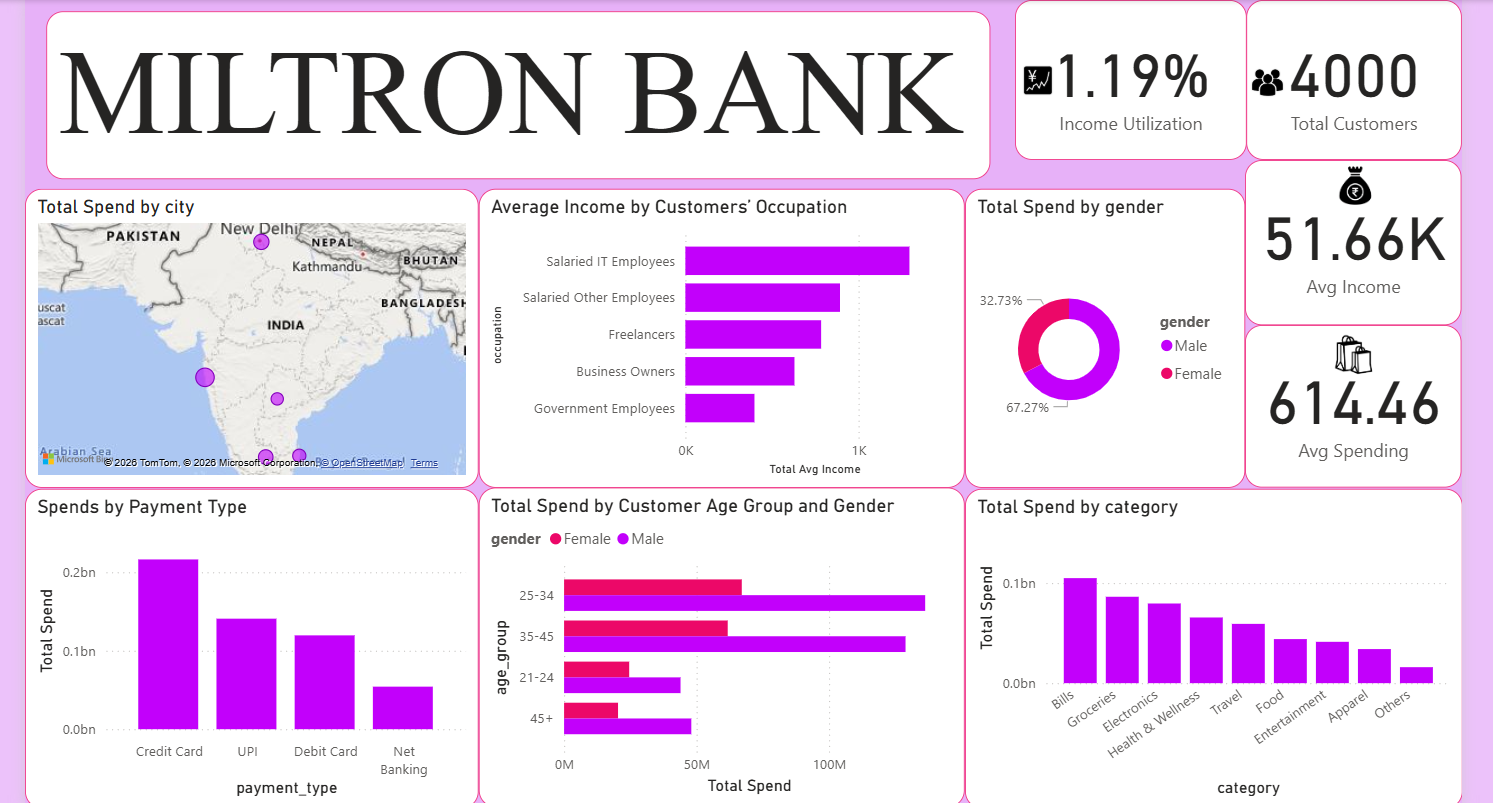

The page's visual inventory and layout, read from the dashboard file:
{"tool":"powerbi","page":{"name":"MILTRON BANK","canvas":[1280,720],"ordinal":0},"visuals":[{"type":"card","fields":{"Values":["CountNonNull(dim_customers.customer_id)"]},"box":[1088.2,0,191.8,142.4],"z":0,"group":"g2"},{"type":"card","fields":{"Values":["Avg(dim_customers.avg_income)"]},"box":[1087,142.4,193,147.2],"z":0},{"type":"card","fields":{"Values":["Avg(fact_spends.spend)"]},"box":[1087,289.5,193,144.8],"z":1000},{"type":"columnChart","title":"Spends by Payment Type","fields":{"Y":["Sum(fact_spends.spend)"],"Category":["fact_spends.payment_type"]},"box":[0,434.7,404.2,284.7],"z":2000},{"type":"card","fields":{"Values":["dim_customers.Income Utilization"]},"box":[881.9,0,206.3,142.4],"z":3000,"group":"g1"},{"type":"barChart","title":"Average Income by Customers’ Occupation","fields":{"Category":["dim_customers.occupation"],"Y":["CountNonNull(dim_customers.avg_income)"]},"box":[404.2,167.7,433.1,266.6],"z":3000},{"type":"map","fields":{"Category":["dim_customers.city"],"Size":["Sum(fact_spends.spend)"]},"box":[0,167.7,404.2,266.6],"z":4000},{"type":"donutChart","fields":{"Category":["dim_customers.gender"],"Y":["Sum(fact_spends.spend)"]},"box":[837.3,167.7,249.7,266.6],"z":5000},{"type":"clusteredBarChart","title":"Total Spend by Customer Age Group and Gender","fields":{"Category":["dim_customers.age_group"],"Y":["Sum(fact_spends.spend)"],"Series":["dim_customers.gender"]},"box":[404.2,434.3,433.1,284.7],"z":6000},{"type":"columnChart","fields":{"Category":["fact_spends.category"],"Y":["Sum(fact_spends.spend)"]},"box":[837.5,434.7,443.1,284.7],"z":7000},{"type":"textbox","box":[19.3,9.7,840.9,149.6],"z":8000},{"type":"group","id":"g1","title":"Group 1","box":[881.9,0,206.3,142.4],"z":9000},{"type":"group","id":"g2","title":"Group 2","box":[1071.3,0,208.7,142.4],"z":10000},{"type":"image","box":[881.9,50.7,41,41],"z":10001,"group":"g1"},{"type":"image","box":[1071.3,50.7,71.2,44.6],"z":10003,"group":"g2"},{"type":"image","box":[1144.9,142.4,78.4,45.8],"z":11000},{"type":"image","box":[1137.7,289.5,91.7,53.1],"z":12000}]}

Visuals, with their boxes on the page's 1280x720 design canvas (x1, y1, x2, y2). These are canvas units, not pixel positions in the 1493x803 screenshot, which may show the page scaled, cropped or inside an application window:
card - CountNonNull(dim_customers.customer_id): bbox=(1088, 0, 1280, 142)
card - Avg(dim_customers.avg_income): bbox=(1087, 142, 1280, 290)
card - Avg(fact_spends.spend): bbox=(1087, 290, 1280, 434)
"Spends by Payment Type" columnChart: bbox=(0, 435, 404, 719)
card - dim_customers.Income Utilization: bbox=(882, 0, 1088, 142)
"Average Income by Customers’ Occupation" barChart: bbox=(404, 168, 837, 434)
map - dim_customers.city x Sum(fact_spends.spend): bbox=(0, 168, 404, 434)
donutChart - dim_customers.gender x Sum(fact_spends.spend): bbox=(837, 168, 1087, 434)
"Total Spend by Customer Age Group and Gender" clusteredBarChart: bbox=(404, 434, 837, 719)
columnChart - fact_spends.category x Sum(fact_spends.spend): bbox=(838, 435, 1281, 719)
textbox: bbox=(19, 10, 860, 159)
"Group 1" group: bbox=(882, 0, 1088, 142)
"Group 2" group: bbox=(1071, 0, 1280, 142)
image: bbox=(882, 51, 923, 92)
image: bbox=(1071, 51, 1142, 95)
image: bbox=(1145, 142, 1223, 188)
image: bbox=(1138, 290, 1229, 343)
